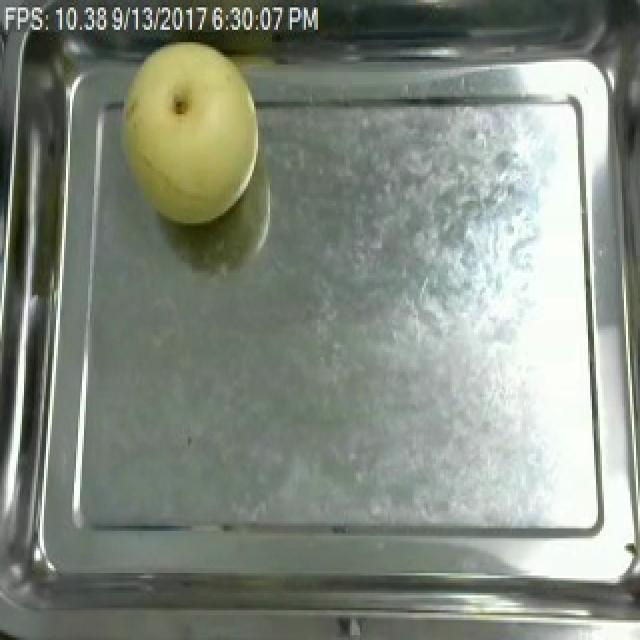Fruit: (106, 30, 268, 233)
